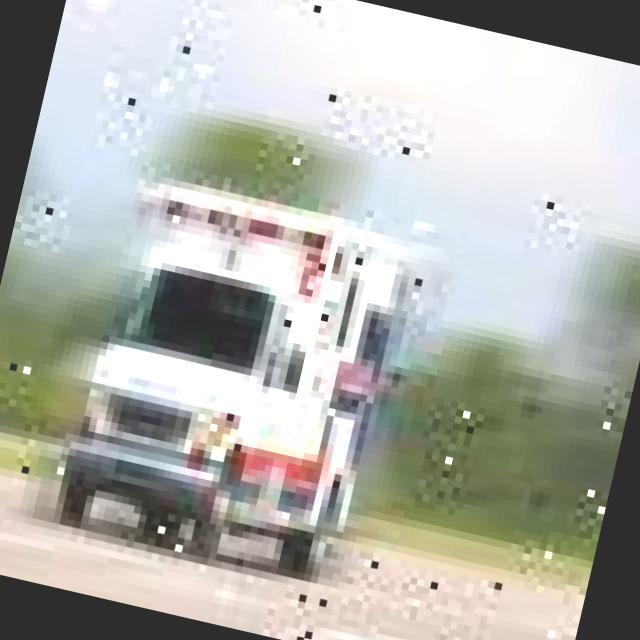emergency-vehicle: (0, 58, 519, 627)
